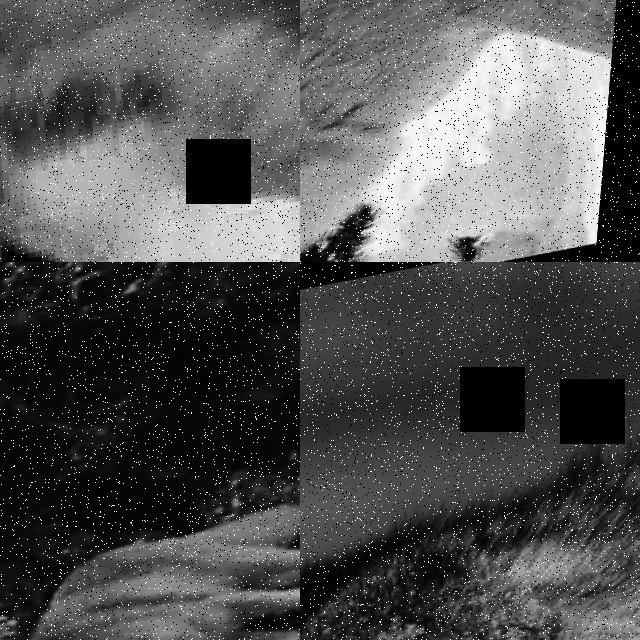wolf: (300, 262, 640, 640), (1, 262, 300, 568), (300, 0, 640, 262), (0, 0, 300, 262), (0, 482, 300, 640)
